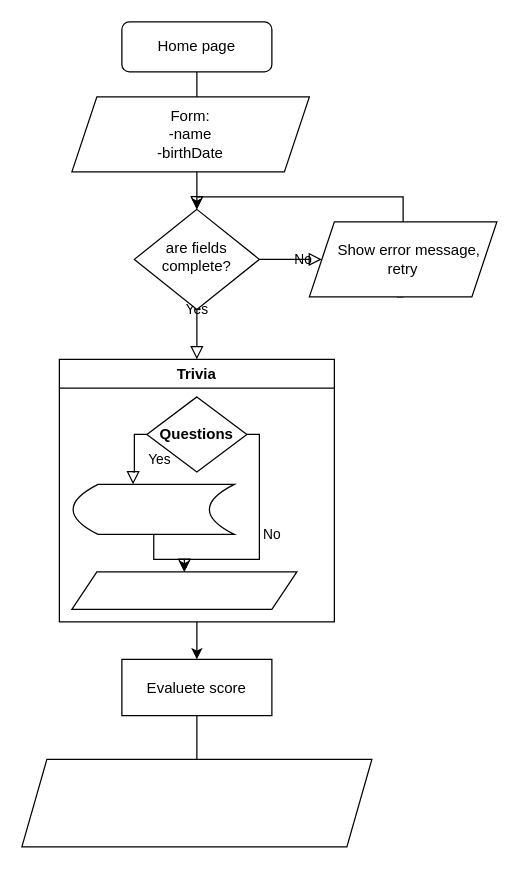
The diagram is 519 pixels wide and 879 high, and some of its shapes have lost their labels. The shapes that lost their labels are listed below. From the top down, each one's centre as x and y in pixels, then its label:
(153,508): scrore + 1 * 10
(184,590): Show options answer
(196,802): Show scores list (saved in localStorage)
